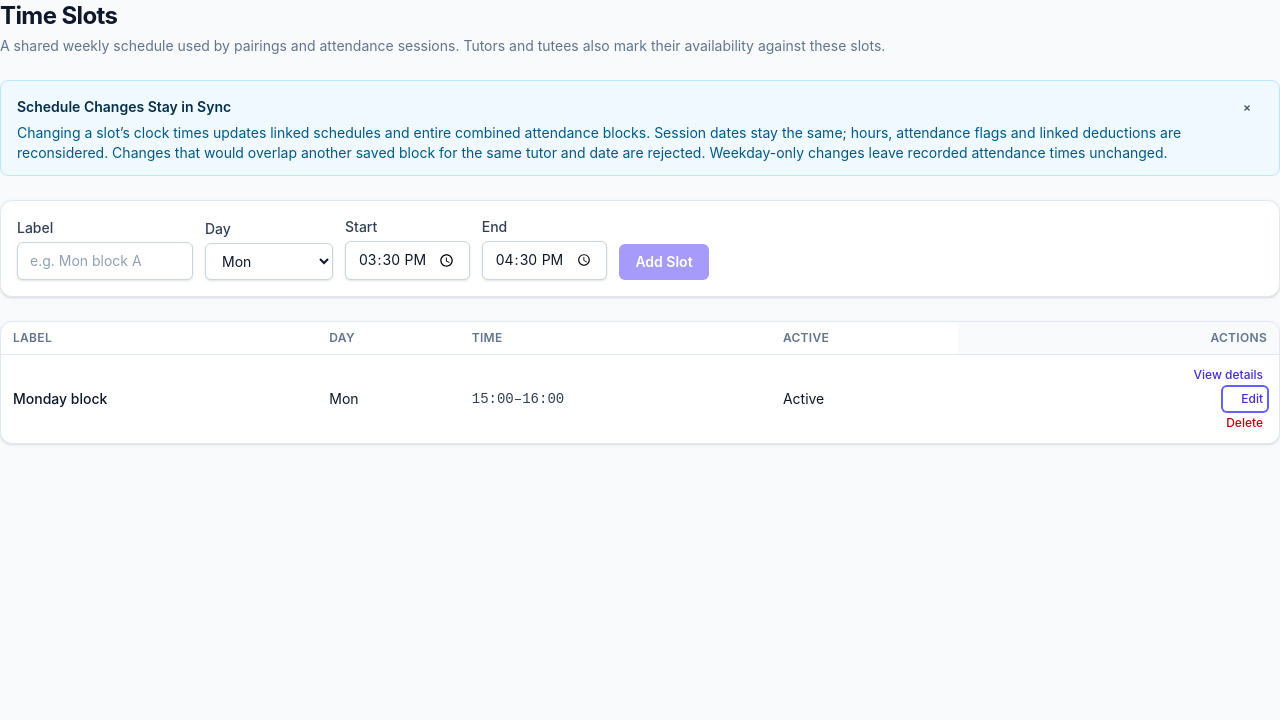
Test: rejects invalid time ranges and cancels the slot draft without a write
This screenshot has width=1280, height=720.
Click the button with aria-label "Edit: Monday block" at {"x": 1245, "y": 399}, box x1=1223 y1=387 x2=1267 y2=411
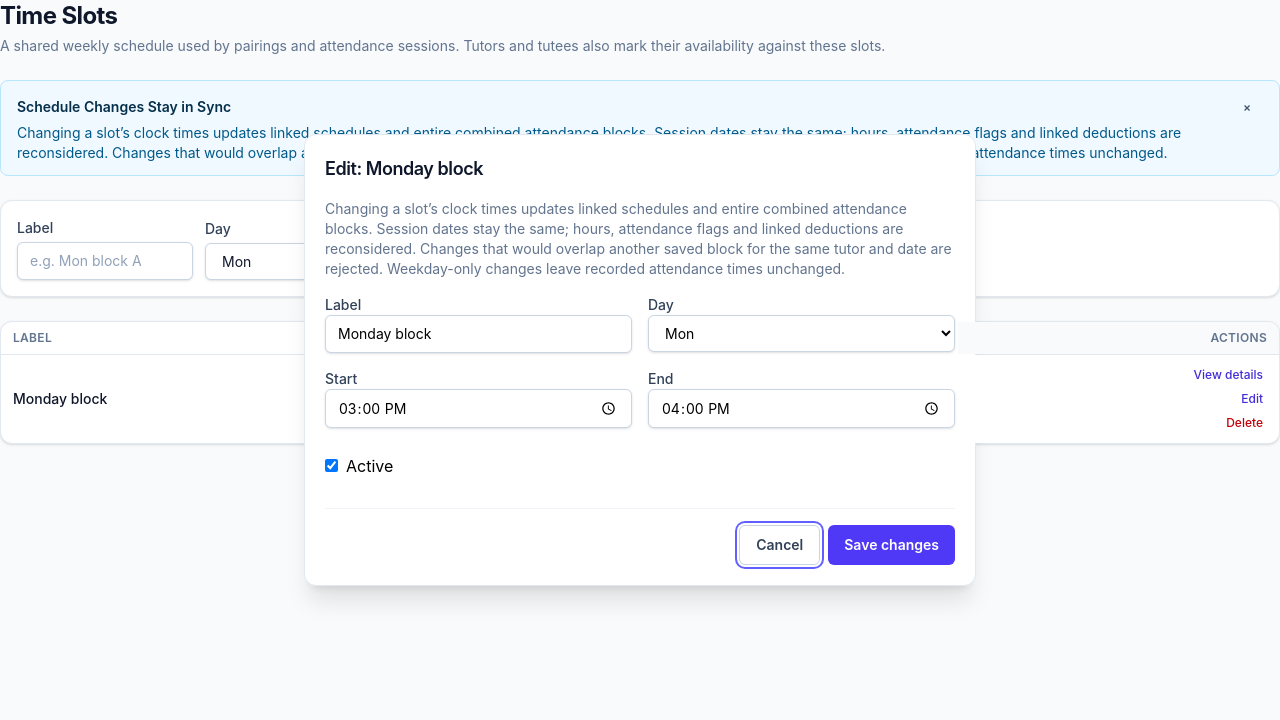
Replace the text in the time field labelled "End" with "14:00" at {"x": 802, "y": 409}, box x1=648 y1=389 x2=955 y2=428
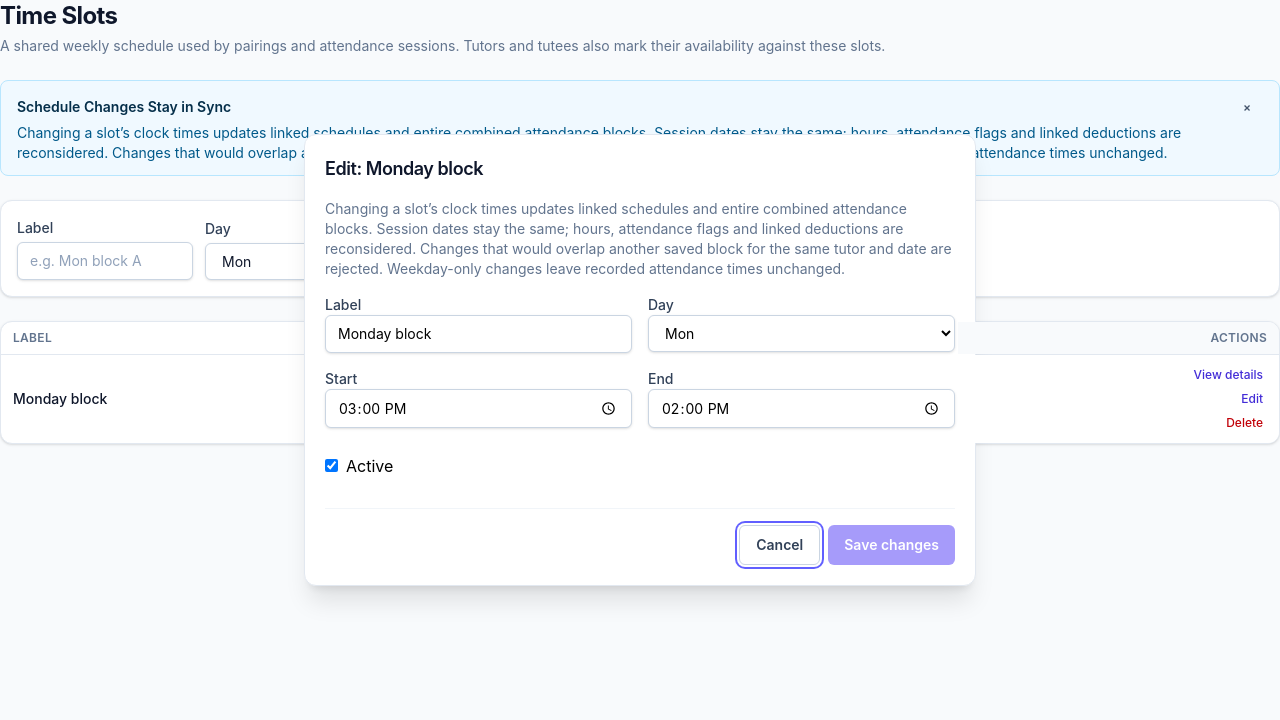
Check: the button "Save changes" is disabled, box x1=828 y1=525 x2=955 y2=565
Click the button "Cancel" at {"x": 780, "y": 545}, box x1=739 y1=525 x2=820 y2=565
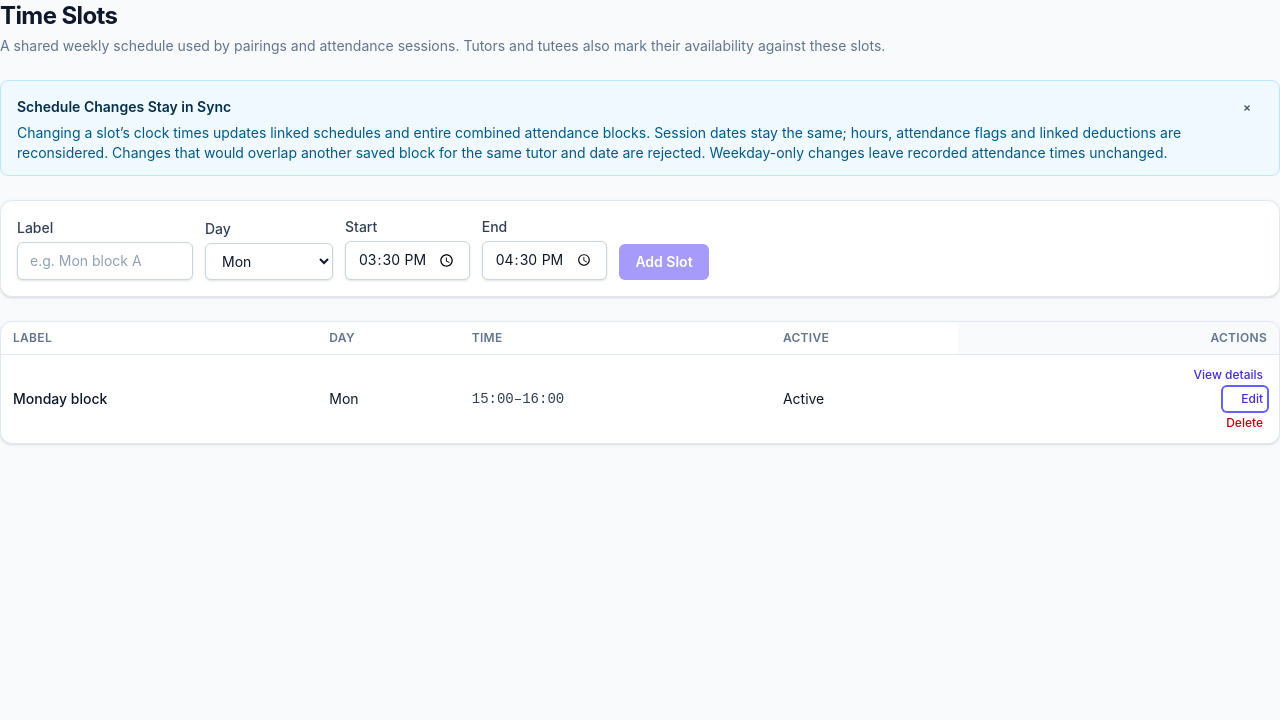
Check: the dialog is gone
